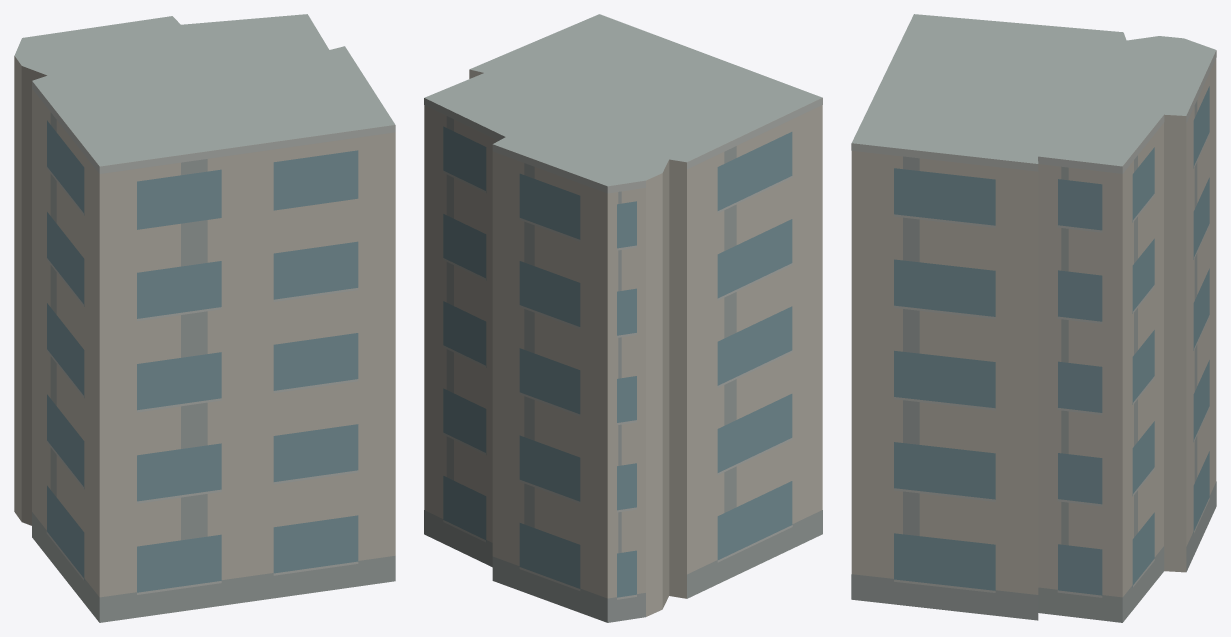
Rendered from survey-upis-32727966.glb.
The picture shows the model from 3 angles, left to right: view 1: azimuth 30°, elevation 25°; view 2: azimuth 150°, elevation 25°; view 3: azimuth 270°, elevation 25°; orthographic projection. The views are drawn at different scales.
Parts seen in each view (by area): view 1: survey-upis-32727966.tmp; view 2: survey-upis-32727966.tmp; view 3: survey-upis-32727966.tmp.
Part boxes in pixels (box(x1,y1,x2,y2)): survey-upis-32727966.tmp: box(14, 14, 395, 622); survey-upis-32727966.tmp: box(424, 14, 822, 622); survey-upis-32727966.tmp: box(851, 14, 1216, 622).
Size of the model in its own units: 10.61 by 14.8 by 10.74.
